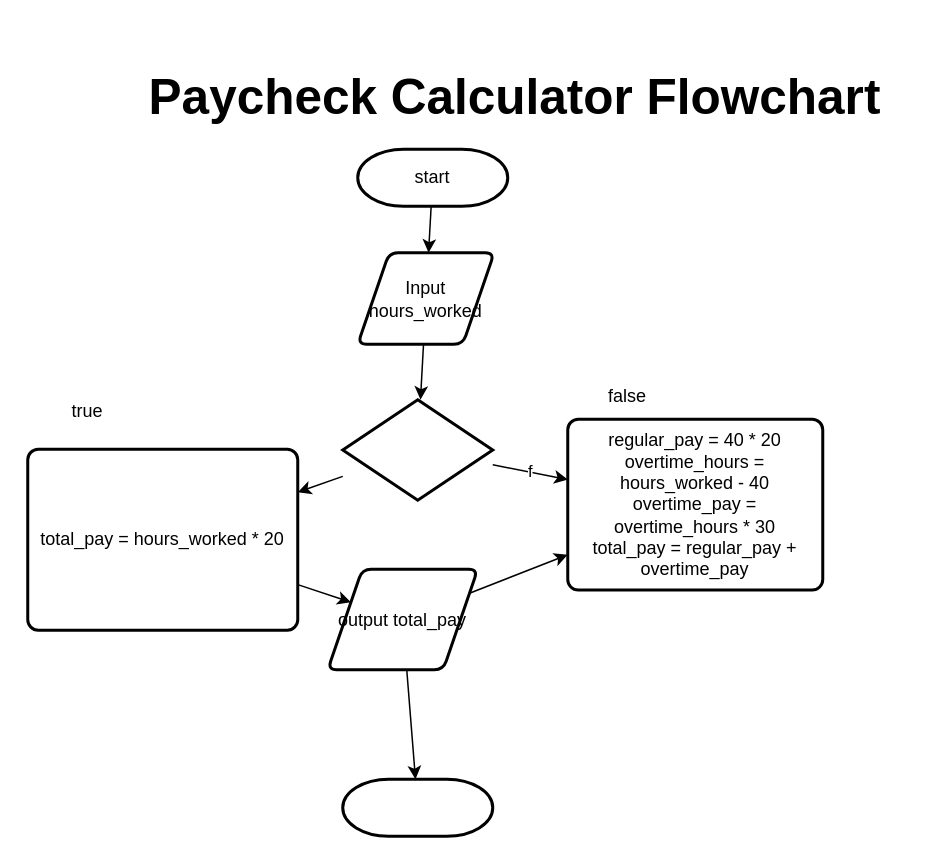
The diagram is 938 pixels wide and 863 high, and some of its shapes have lost their labels. The shapes that lost their labels are listed below. From the top down, each one's box as (x1, y1, x2, y2) in pixels, then its label:
(340, 398, 494, 501): Is hours_worked <= 40?
(340, 777, 494, 837): end
